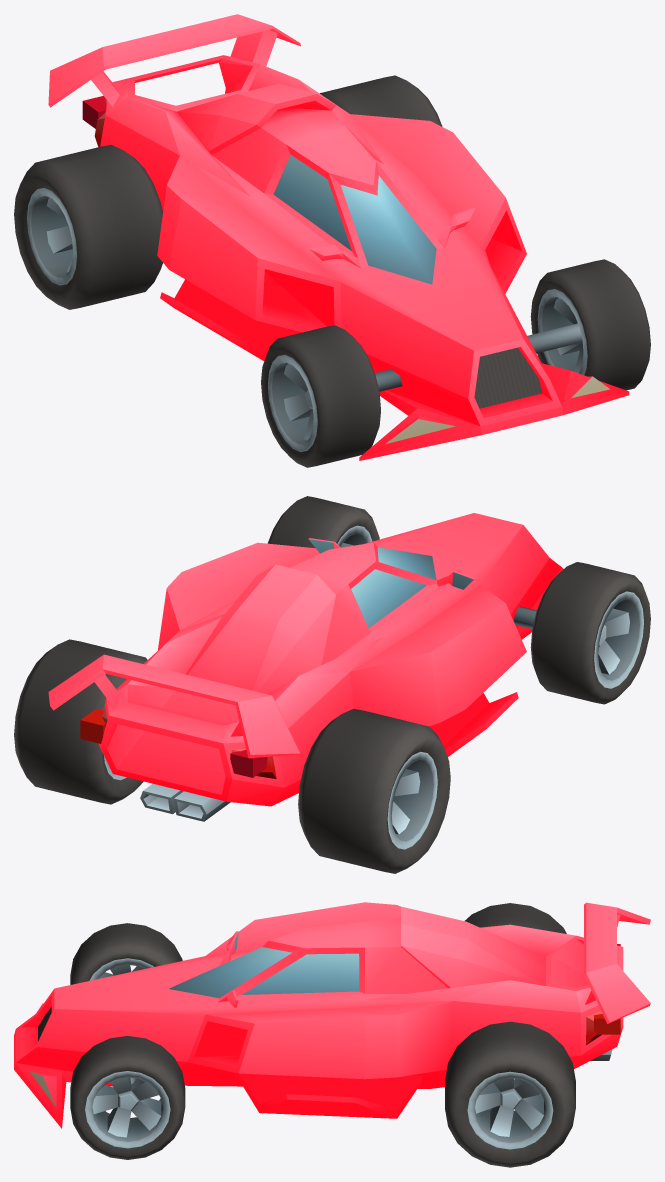
File: ToyCar-red.glb
3 views of the same model, one above another, from view 1: azimuth 30°, elevation 25°; view 2: azimuth 150°, elevation 25°; view 3: azimuth 270°, elevation 25° (orthographic). The views are drawn at different scales.
Visible parts, largest first — view 1: Formula, RR_wheel, FR_wheel, FL_wheel, RL_wheel; view 2: Formula, RR_wheel, FR_wheel, RL_wheel, FL_wheel, BreakLight_R, BreakLight_L; view 3: Formula, RL_wheel, FL_wheel, FR_wheel, RR_wheel, BreakLight_L.
Part boxes in pixels (x1=…): Formula: x1=48, y1=14, x2=629, y2=460; RR_wheel: x1=14, y1=145, x2=162, y2=309; FR_wheel: x1=261, y1=325, x2=380, y2=467; FL_wheel: x1=530, y1=259, x2=650, y2=390; RL_wheel: x1=320, y1=75, x2=442, y2=126; Formula: x1=48, y1=513, x2=563, y2=821; RR_wheel: x1=298, y1=708, x2=450, y2=873; FR_wheel: x1=530, y1=562, x2=650, y2=704; RL_wheel: x1=14, y1=639, x2=147, y2=804; FL_wheel: x1=267, y1=496, x2=379, y2=548; BreakLight_R: x1=230, y1=749, x2=267, y2=777; BreakLight_L: x1=80, y1=709, x2=105, y2=743; Formula: x1=14, y1=902, x2=650, y2=1128; RL_wheel: x1=445, y1=1021, x2=575, y2=1167; FL_wheel: x1=70, y1=1036, x2=185, y2=1159; FR_wheel: x1=70, y1=923, x2=182, y2=984; RR_wheel: x1=465, y1=903, x2=566, y2=933; BreakLight_L: x1=594, y1=1014, x2=620, y2=1034.
Size of the model in its own units: 2.23 by 1.2 by 3.87.
Materials: 3 (1 with a texture image).
